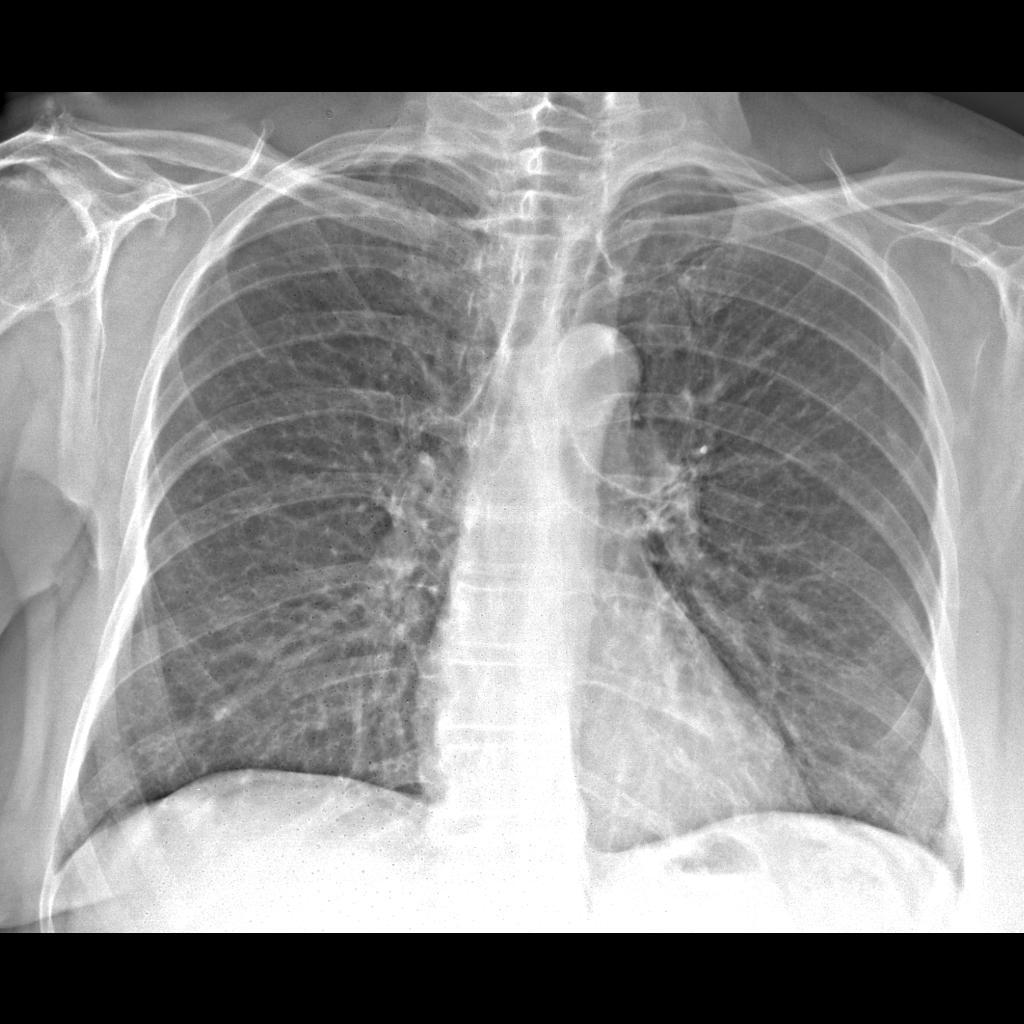Nodule: (194, 413, 243, 474)
